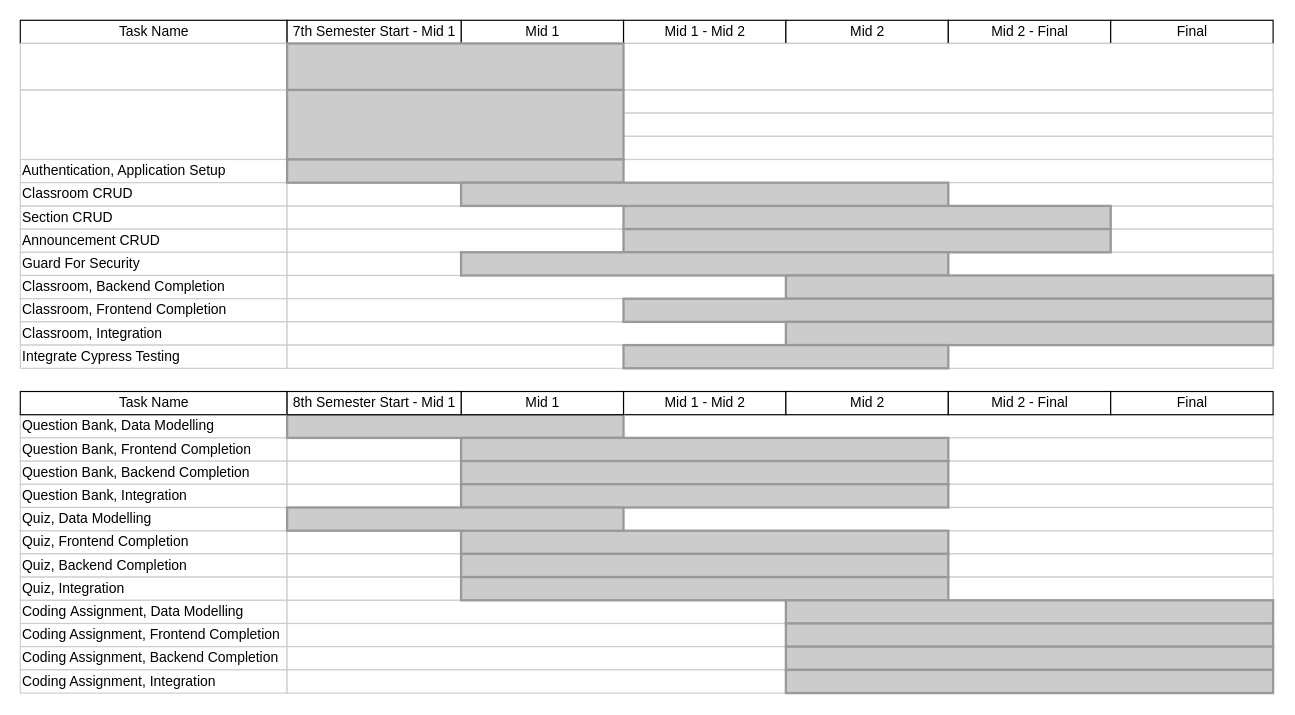
The diagram is 1295 pixels wide and 715 high, and some of its shapes have lost their labels. Each missing label, with the box of its shape:
Classroom/Section/Student/Teacher Member/Verify/Announcement Data Modelling: (19, 89, 287, 160)
Requirement Engineering, Solution Exploration: (19, 42, 287, 90)
